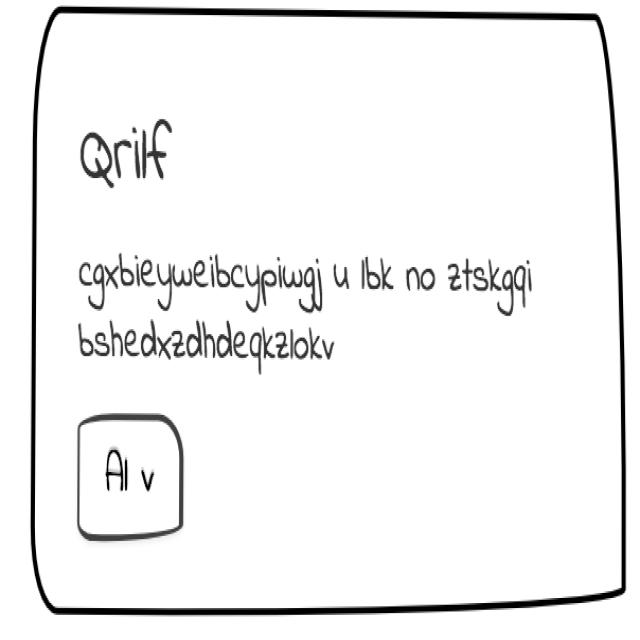Button: (66, 404, 210, 546)
Heading 6: (61, 116, 188, 204)
Paragraph: (73, 252, 540, 381)
